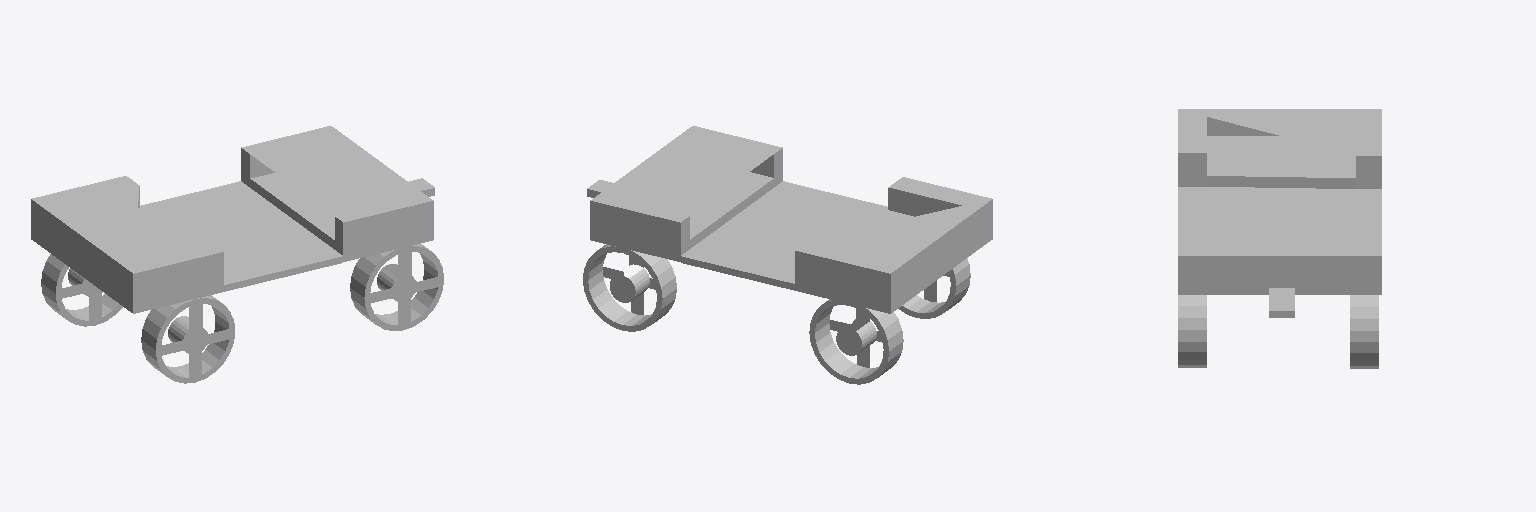
File: at arabası.obj
3 renders of one model, left to right at view 1: azimuth 30°, elevation 25°; view 2: azimuth 150°, elevation 25°; view 3: azimuth 270°, elevation 25°, orthographic.
Visible parts, largest first — view 1: Mesh1 Model, Mesh2 Model; view 2: Mesh1 Model, Mesh3 Model, Mesh2 Model; view 3: Mesh1 Model, Mesh3 Model.
Boxes of the visible parts, x1,y1,x2,y2 form: Mesh1 Model: [31, 126, 443, 383]; Mesh2 Model: [41, 254, 122, 326]; Mesh1 Model: [587, 126, 992, 318]; Mesh3 Model: [583, 244, 676, 331]; Mesh2 Model: [809, 299, 903, 384]; Mesh1 Model: [1178, 109, 1381, 367]; Mesh3 Model: [1350, 295, 1378, 368].
Size of the model in its own units: 2.35 by 0.8016 by 1.2.